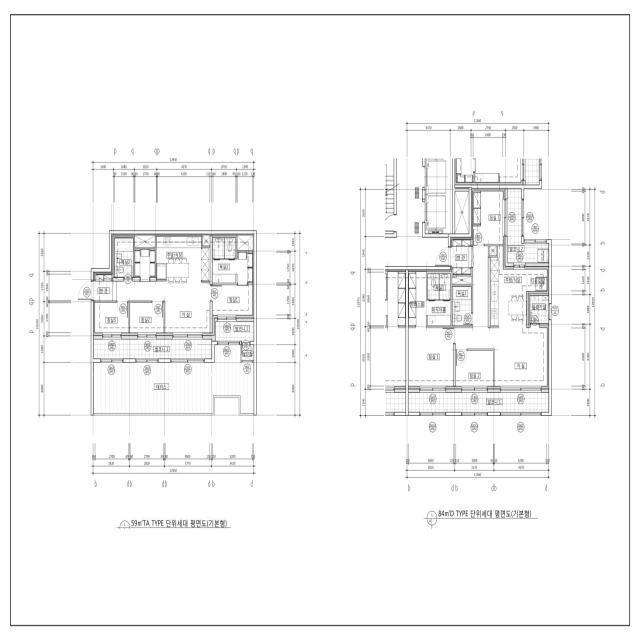space_balconi: (94, 345, 254, 413), (508, 189, 549, 263), (408, 393, 549, 412), (94, 339, 212, 359), (216, 322, 254, 341)
space_bedroom: (408, 328, 453, 389), (472, 189, 505, 244), (211, 285, 254, 318), (456, 351, 493, 389), (94, 303, 129, 336), (130, 303, 164, 336)
space_dressroom: (408, 270, 426, 328), (426, 300, 451, 326), (236, 252, 254, 283), (213, 259, 236, 283)
space_elevator: (425, 195, 452, 234), (425, 158, 452, 195)
space_elevator_hall: (385, 158, 448, 266)
space_front: (451, 238, 472, 275), (93, 272, 117, 301)
space_kitchen: (491, 246, 528, 328), (156, 234, 210, 282)
space_living_room: (455, 246, 549, 389), (116, 279, 210, 336)
space_multipurpose_space: (526, 267, 549, 294)
space_other: (455, 191, 469, 234), (135, 249, 155, 277), (237, 234, 254, 250), (135, 234, 155, 247), (452, 276, 472, 284), (203, 234, 210, 246), (489, 246, 497, 256)
space_outdoor_room: (530, 296, 549, 323), (241, 343, 254, 360)
space_staircase: (385, 158, 394, 234)
space_toilet: (452, 286, 472, 326), (114, 238, 134, 278), (439, 274, 450, 300), (428, 274, 439, 300), (224, 238, 236, 259), (213, 238, 224, 259)
